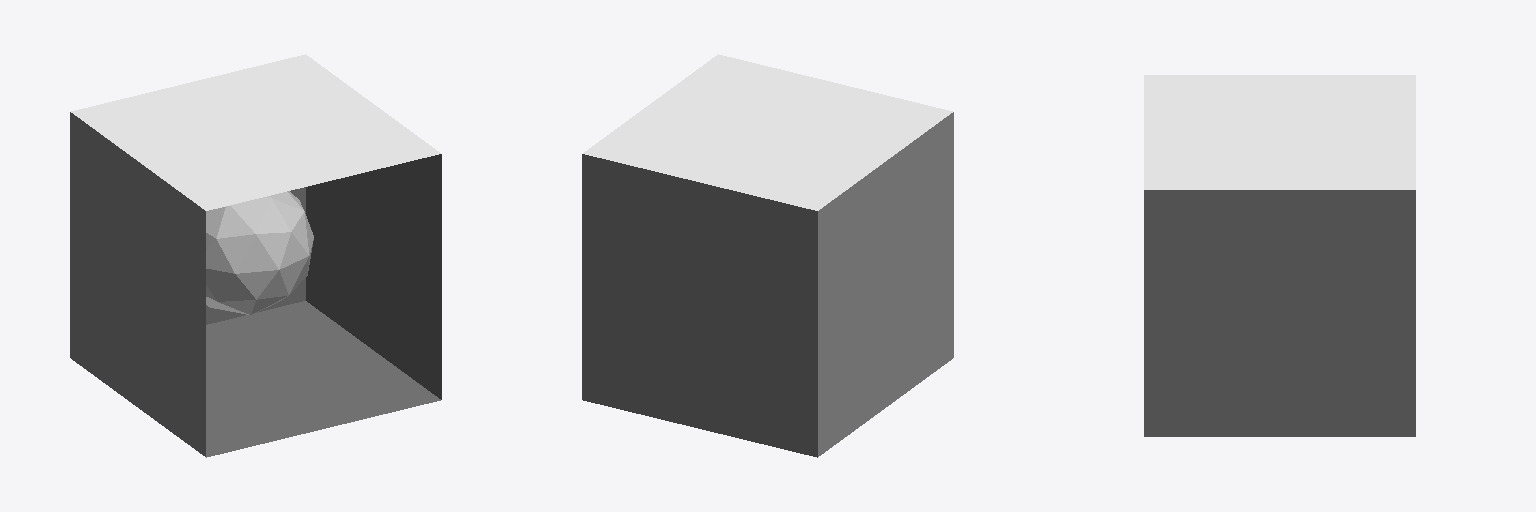
File: icosphere-glass.obj
3 renders of one model, left to right at view 1: azimuth 30°, elevation 25°; view 2: azimuth 150°, elevation 25°; view 3: azimuth 270°, elevation 25°, orthographic.
Parts seen in each view (by area): view 1: Walls, Icosphere; view 2: Walls; view 3: Walls.
Part boxes in pixels (x1,y1,x2,y2): Walls: (70, 54, 441, 457); Icosphere: (206, 191, 313, 314); Walls: (582, 54, 953, 457); Walls: (1144, 75, 1415, 436).
Size of the model in its own units: 2 by 2 by 2.